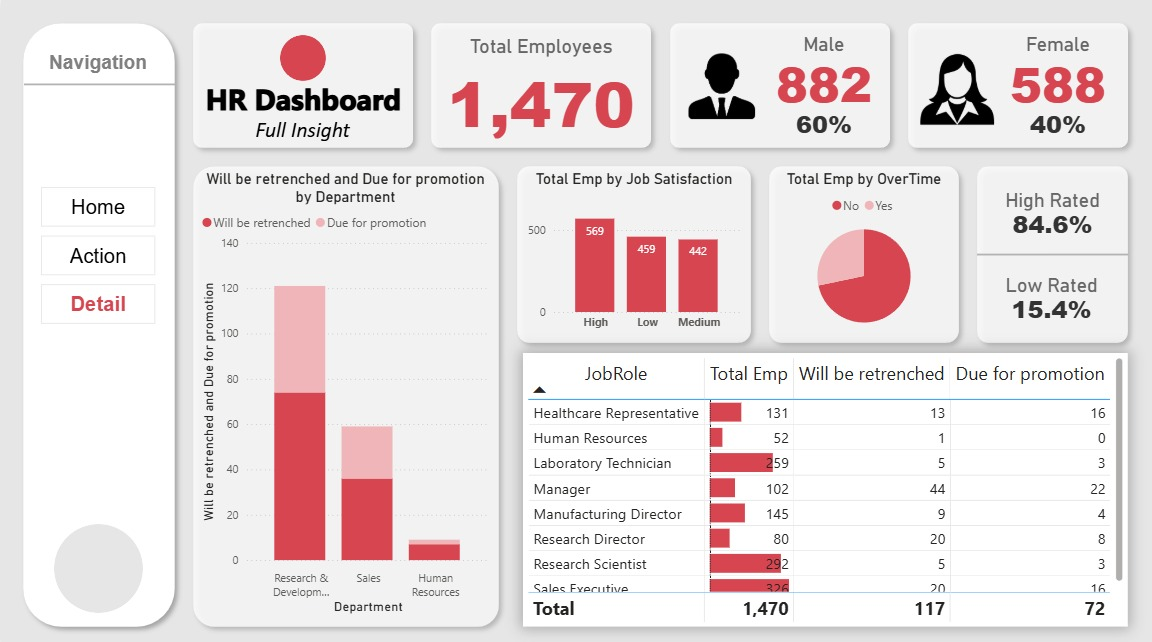

The dashboard page shown, as its layout file describes it:
{"tool":"powerbi","page":{"name":"Detail","canvas":[1280,720],"ordinal":2},"visuals":[{"type":"shape","box":[15,17,188.7,690.9],"z":0},{"type":"shape","box":[203.7,17,264.6,158.8],"z":1000},{"type":"shape","box":[468.3,17,264.6,158.8],"z":2000},{"type":"shape","box":[732.9,17,264.6,158.8],"z":3000},{"type":"shape","box":[997.4,17,264.6,158.8],"z":4000},{"type":"textbox","box":[217.8,83.3,236.7,60],"z":5000},{"type":"textbox","box":[216.7,125.6,236.7,38.9],"z":6000},{"type":"shape","box":[310,40,51.1,51.1],"z":7000},{"type":"card","title":"Total Employees","fields":{"Values":["All Measures.Total Emp"]},"box":[482.4,40,236.1,120.1],"z":8000},{"type":"card","title":"Male","fields":{"Values":["All Measures.Male"]},"box":[852,38,124.2,83.1],"z":9000},{"type":"card","title":"Male","fields":{"Values":["All Measures.% male"]},"box":[867.4,111.9,93.4,54.4],"z":10000},{"type":"card","title":"Female","fields":{"Values":["All Measures.Female"]},"box":[1112.7,38,124.2,83.1],"z":11000},{"type":"card","title":"Male","fields":{"Values":["All Measures.% female"]},"box":[1128.1,111.9,93.4,54.4],"z":12000},{"type":"image","box":[758.6,54.4,84.2,85.2],"z":13000},{"type":"image","box":[1014.1,54.4,95.5,92.4],"z":14000},{"type":"shape","box":[203.3,175.6,360,532.2],"z":15000},{"type":"columnChart","fields":{"Category":["HR Analytics Data.Department"],"Y":["All Measures.Will be retrenched","All Measures.Due for promotion"]},"box":[217.8,190,330,497.8],"z":16000},{"type":"shape","box":[563.3,175.6,280,216.7],"z":17000},{"type":"shape","box":[843.3,175.6,231.1,216.7],"z":18000},{"type":"shape","box":[1074.4,175.6,187.8,216.7],"z":19000},{"type":"shape","box":[1084.1,277.6,168.2,12.4],"z":20000},{"type":"columnChart","fields":{"Category":["HR Analytics Data.Job Satisfaction"],"Y":["All Measures.Total Emp"]},"box":[580,190,246.7,187.8],"z":21000},{"type":"pieChart","fields":{"Y":["All Measures.Total Emp"],"Category":["HR Analytics Data.OverTime"]},"box":[856.7,190,204.4,187.8],"z":22000},{"type":"tableEx","fields":{"Values":["HR Analytics Data.JobRole","All Measures.Total Emp","All Measures.Will be retrenched","All Measures.Due for promotion"]},"box":[580,393.3,672.2,304.4],"z":23000},{"type":"card","title":"High Rated","fields":{"Values":["All Measures.% High Rated"]},"box":[1084.4,211.1,167.8,54.4],"z":24000},{"type":"card","title":"Low Rated","fields":{"Values":["All Measures.% Low Rated"]},"box":[1083.3,305.6,167.8,54.4],"z":25000},{"type":"pageNavigator","box":[44.4,208.9,127.8,153.3],"z":25001},{"type":"shape","box":[58.9,583.3,98.9,98.9],"z":25002},{"type":"textbox","box":[28.9,53.3,157.8,43.3],"z":25003},{"type":"shape","box":[25,89,169,12],"z":25004}]}

Visuals, with their boxes in screenshot pixels (x1, y1, x2, y2), scaled from the page's 1280x720 canvas onto the 1152x642 screenshot:
shape: region(14, 15, 183, 631)
shape: region(183, 15, 421, 157)
shape: region(421, 15, 660, 157)
shape: region(660, 15, 898, 157)
shape: region(898, 15, 1136, 157)
textbox: region(196, 74, 409, 128)
textbox: region(195, 112, 408, 147)
shape: region(279, 36, 325, 81)
"Total Employees" card: region(434, 36, 647, 143)
"Male" card: region(767, 34, 879, 108)
"Male" card: region(781, 100, 865, 148)
"Female" card: region(1001, 34, 1113, 108)
"Male" card: region(1015, 100, 1099, 148)
image: region(683, 49, 759, 124)
image: region(913, 49, 999, 131)
shape: region(183, 157, 507, 631)
columnChart - HR Analytics Data.Department x All Measures.Will be retrenched: region(196, 169, 493, 613)
shape: region(507, 157, 759, 350)
shape: region(759, 157, 967, 350)
shape: region(967, 157, 1136, 350)
shape: region(976, 248, 1127, 259)
columnChart - HR Analytics Data.Job Satisfaction x All Measures.Total Emp: region(522, 169, 744, 337)
pieChart - All Measures.Total Emp x HR Analytics Data.OverTime: region(771, 169, 955, 337)
tableEx - HR Analytics Data.JobRole x All Measures.Total Emp: region(522, 351, 1127, 622)
"High Rated" card: region(976, 188, 1127, 237)
"Low Rated" card: region(975, 272, 1126, 321)
pageNavigator: region(40, 186, 155, 323)
shape: region(53, 520, 142, 608)
textbox: region(26, 48, 168, 86)
shape: region(22, 79, 175, 90)
